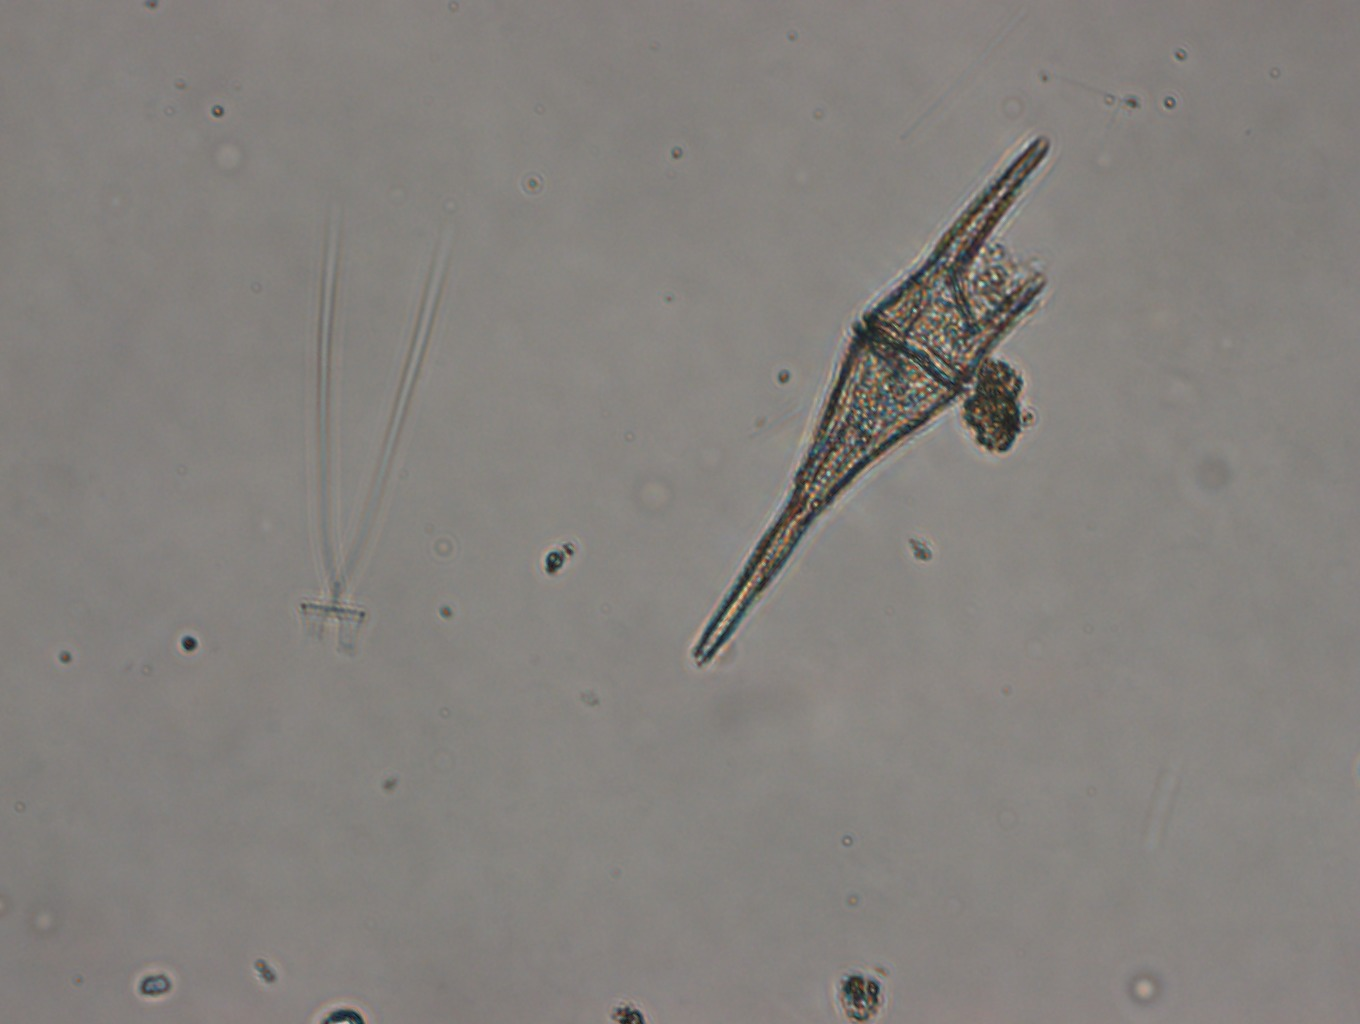ceratium furca: (691, 127, 1057, 673)
chaetoceros: (299, 177, 450, 652)
